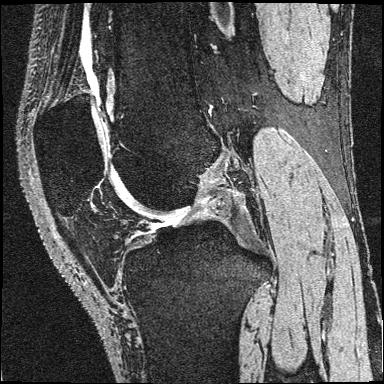SagKneeJointArea: (31, 92, 274, 327)
